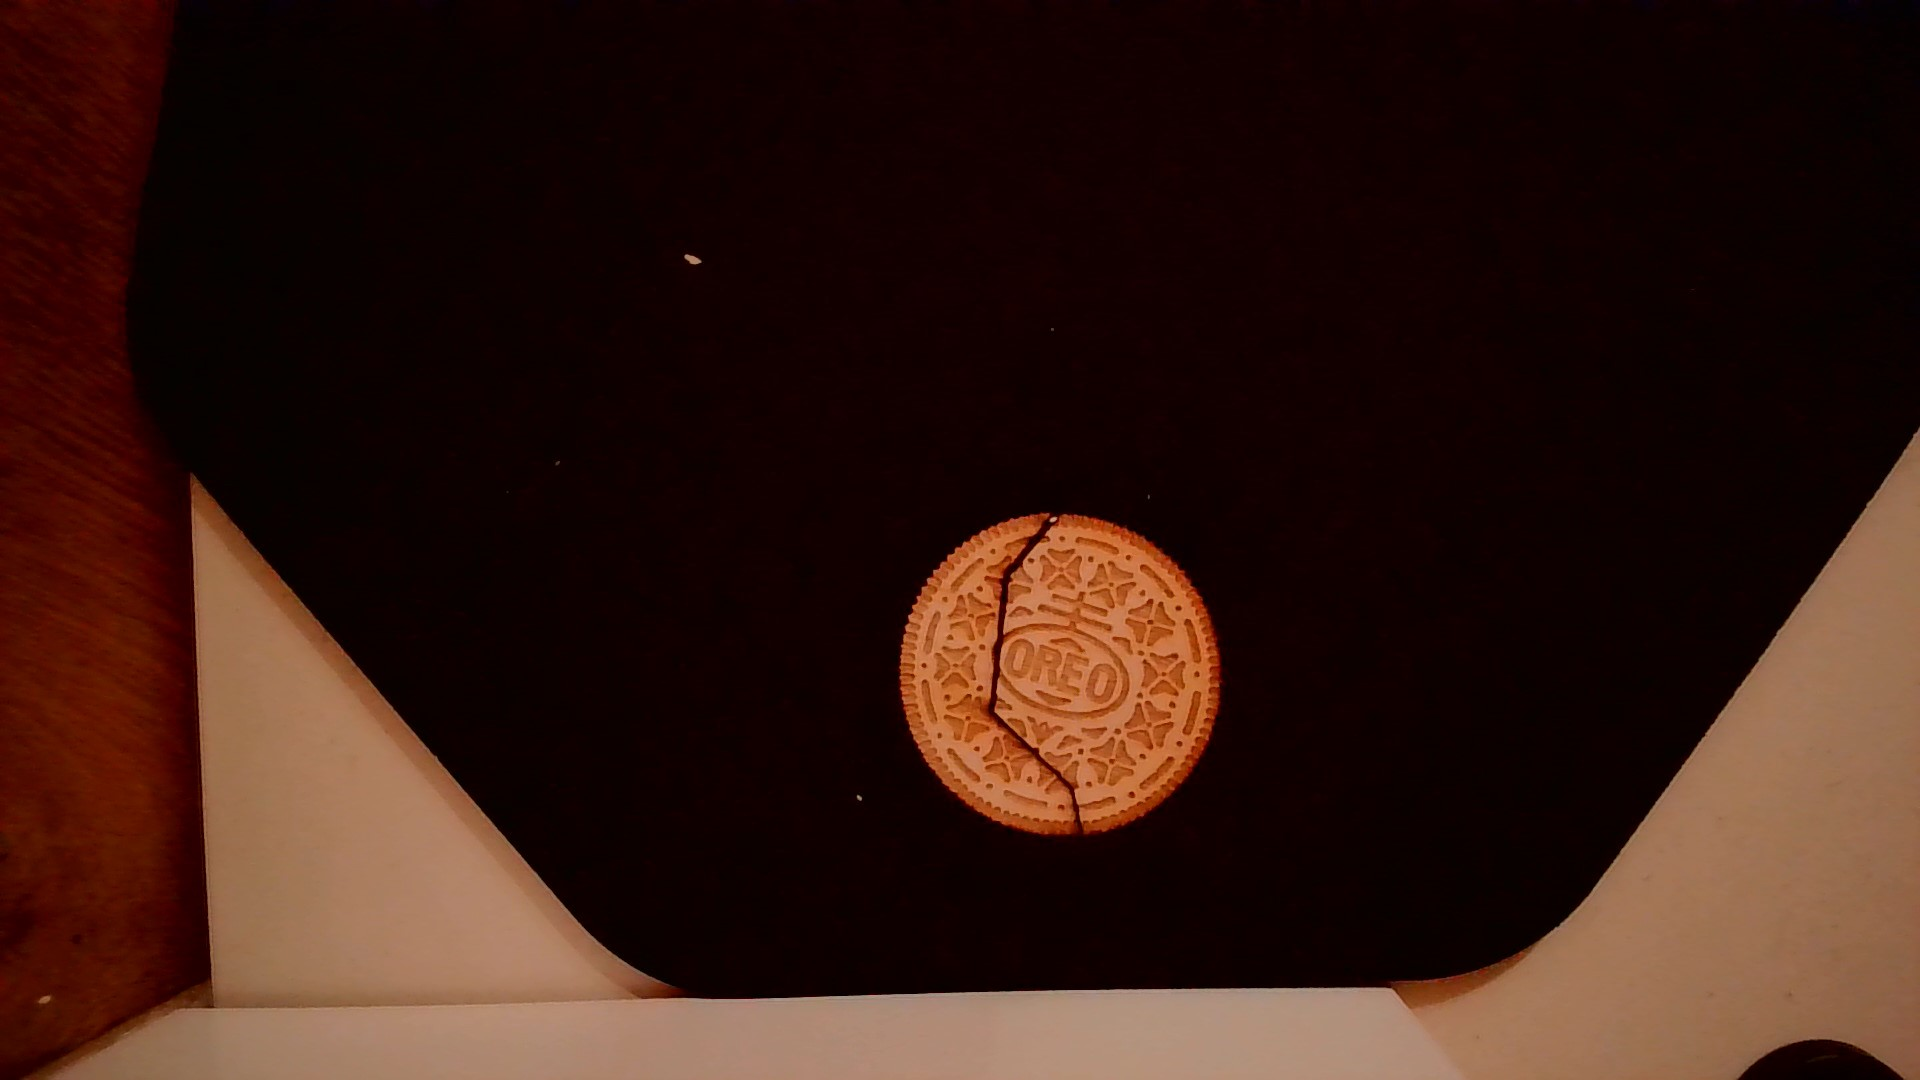Fissure: (982, 505, 1093, 841)
Oréo: (891, 506, 1230, 845)
